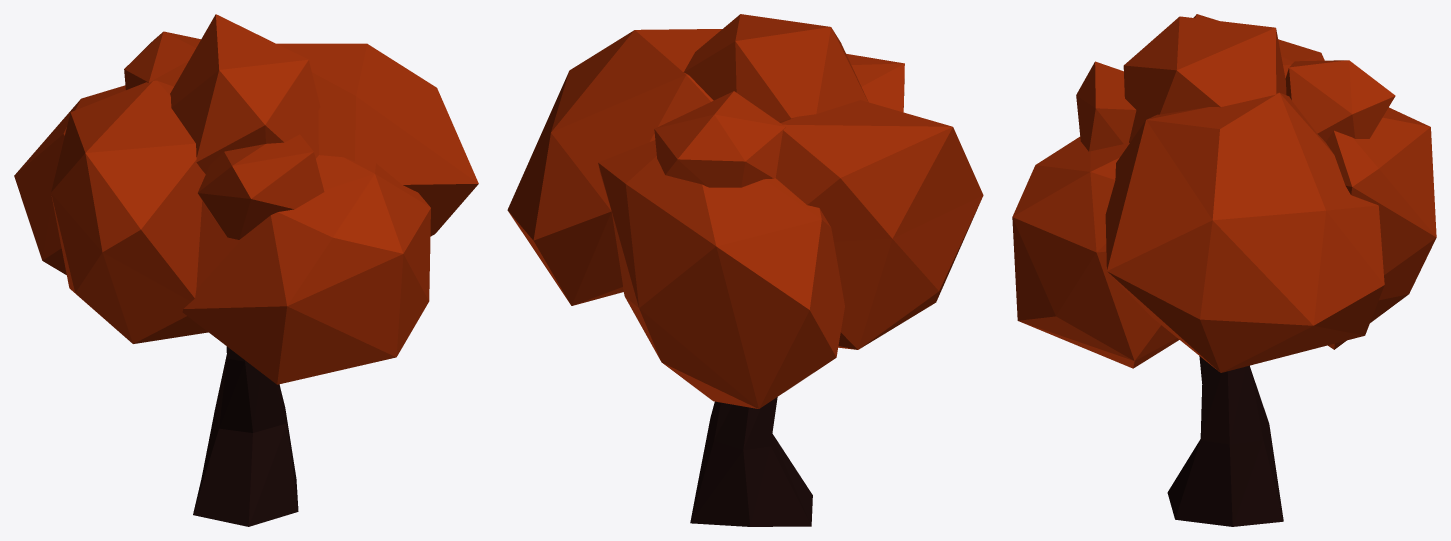
The model's file is M_NutTree1.FBX.
3 views of the same model, side by side, from view 1: azimuth 30°, elevation 25°; view 2: azimuth 150°, elevation 25°; view 3: azimuth 270°, elevation 25° (orthographic). The views are drawn at different scales.
Parts seen in each view (by area): view 1: GeoSphere025, GeoSphere019, GeoSphere020, GeoSphere022, Cylinder007, GeoSphere024, GeoSphere021, GeoSphere023; view 2: GeoSphere021, GeoSphere019, GeoSphere020, GeoSphere022, Cylinder007, GeoSphere023, GeoSphere024; view 3: GeoSphere020, GeoSphere025, Cylinder007, GeoSphere022, GeoSphere021, GeoSphere023, GeoSphere024, GeoSphere019.
Boxes of the visible parts, x1,y1,x2,y2 form: GeoSphere025: [182, 155, 430, 384]; GeoSphere019: [51, 80, 208, 343]; GeoSphere020: [277, 43, 478, 236]; GeoSphere022: [170, 14, 320, 173]; Cylinder007: [193, 346, 298, 526]; GeoSphere024: [198, 134, 324, 239]; GeoSphere021: [14, 85, 125, 274]; GeoSphere023: [124, 31, 200, 89]; GeoSphere021: [598, 140, 844, 408]; GeoSphere019: [775, 100, 983, 349]; GeoSphere020: [507, 29, 721, 305]; GeoSphere022: [683, 14, 868, 121]; Cylinder007: [690, 397, 812, 526]; GeoSphere023: [654, 91, 785, 187]; GeoSphere024: [846, 53, 904, 112]; GeoSphere020: [1105, 92, 1384, 372]; GeoSphere025: [1012, 136, 1179, 368]; Cylinder007: [1167, 356, 1283, 526]; GeoSphere022: [1123, 16, 1286, 142]; GeoSphere021: [1325, 107, 1436, 349]; GeoSphere023: [1285, 60, 1395, 141]; GeoSphere024: [1076, 61, 1136, 151]; GeoSphere019: [1193, 14, 1324, 77].
Bounding box in the file's own units: 378 × 443 × 357.
